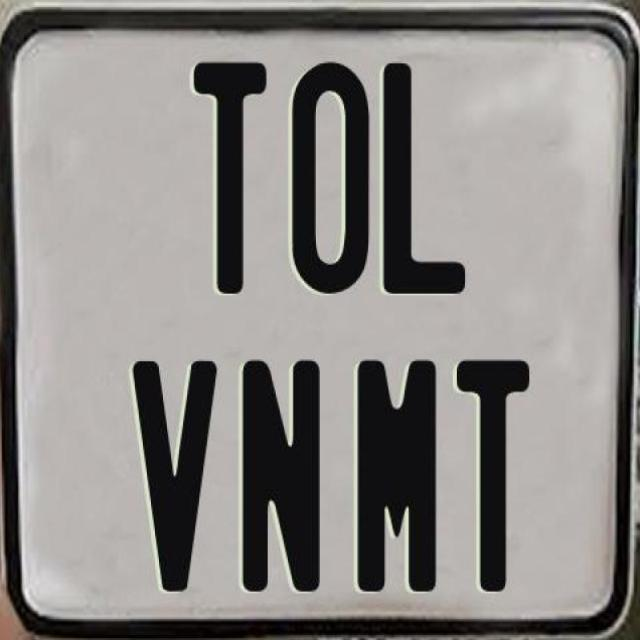license-plate: (0, 13, 640, 614)
